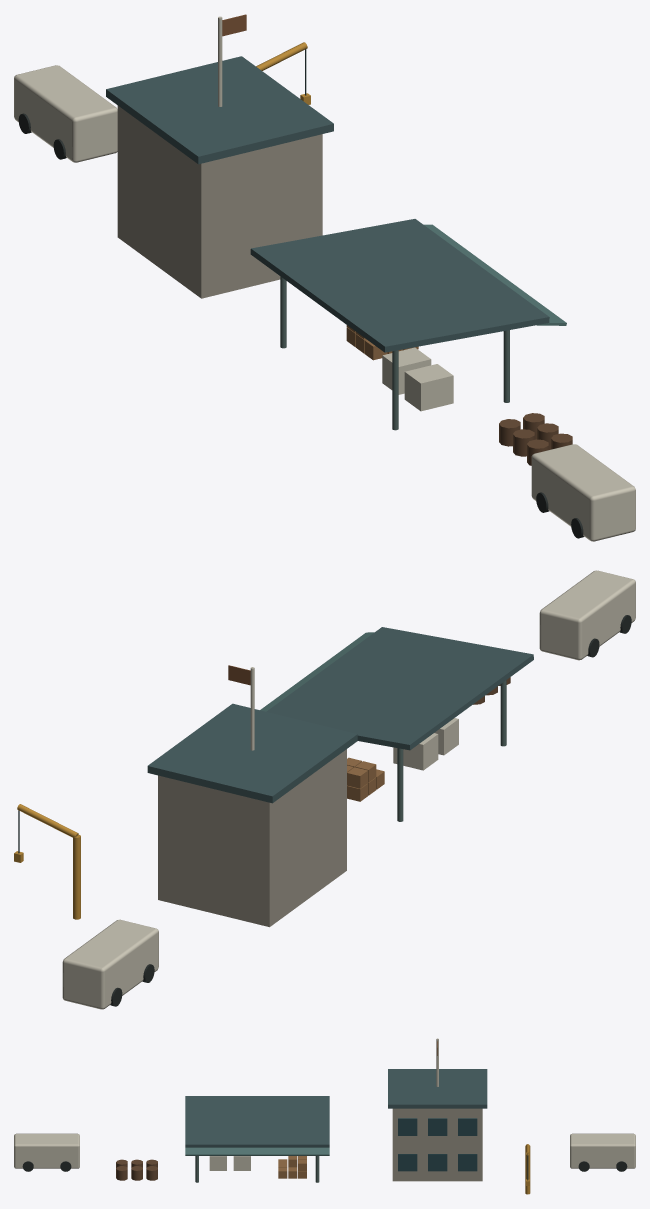
File: fish-market.glb
3 renders of one model, top to bottom at view 1: azimuth 30°, elevation 25°; view 2: azimuth 150°, elevation 25°; view 3: azimuth 270°, elevation 25°, orthographic. The views are drawn at different scales.
Parts seen in each view (by area): view 1: FishMarket; view 2: FishMarket; view 3: FishMarket.
Part boxes in pixels (x1=…): FishMarket: x1=14, y1=14, x2=635, y2=541; FishMarket: x1=14, y1=570, x2=635, y2=1009; FishMarket: x1=14, y1=1038, x2=635, y2=1194.
Size of the model in its own units: 10.05 by 9.3 by 41.4.
